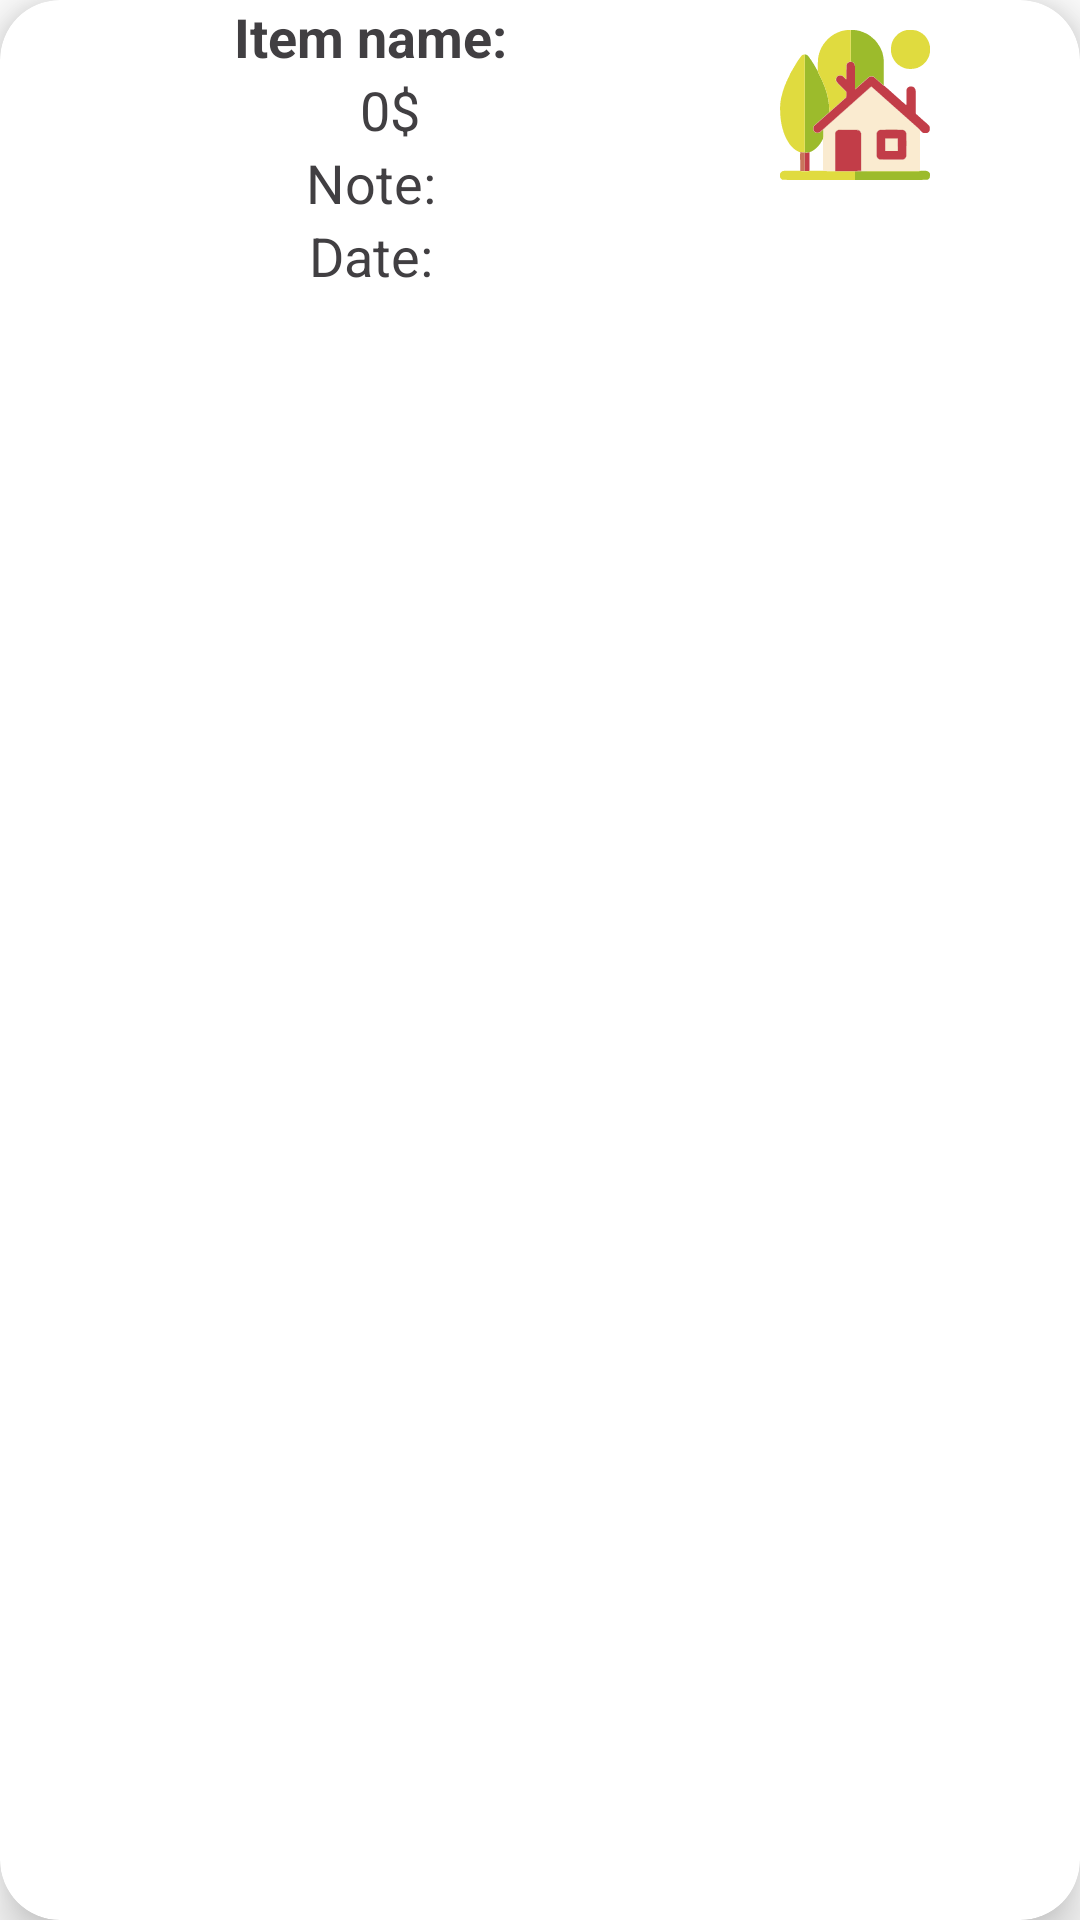

Icon click points for this 1080 x 1920 phone screenshot, format (x,y):
house: (855,105)
